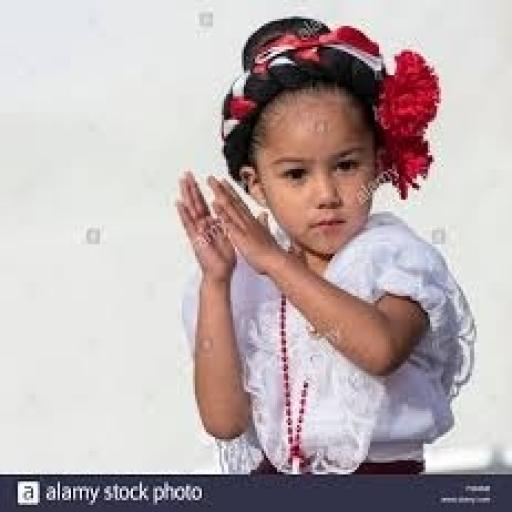clapping: (173, 14, 479, 477)
